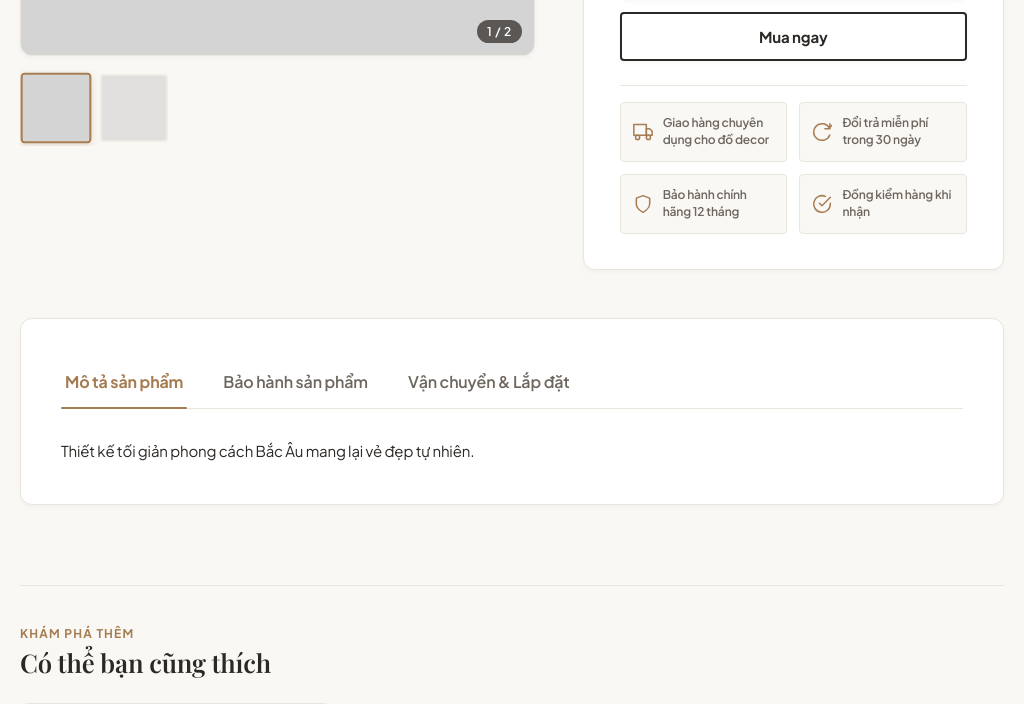
Test: ProductDetailView › renders tabs and switches active panel on tab click
(page scrolled)
Click warranty tab
Click the tab "Bảo hành sản phẩm" at (296, 384), box [219,359,372,408]
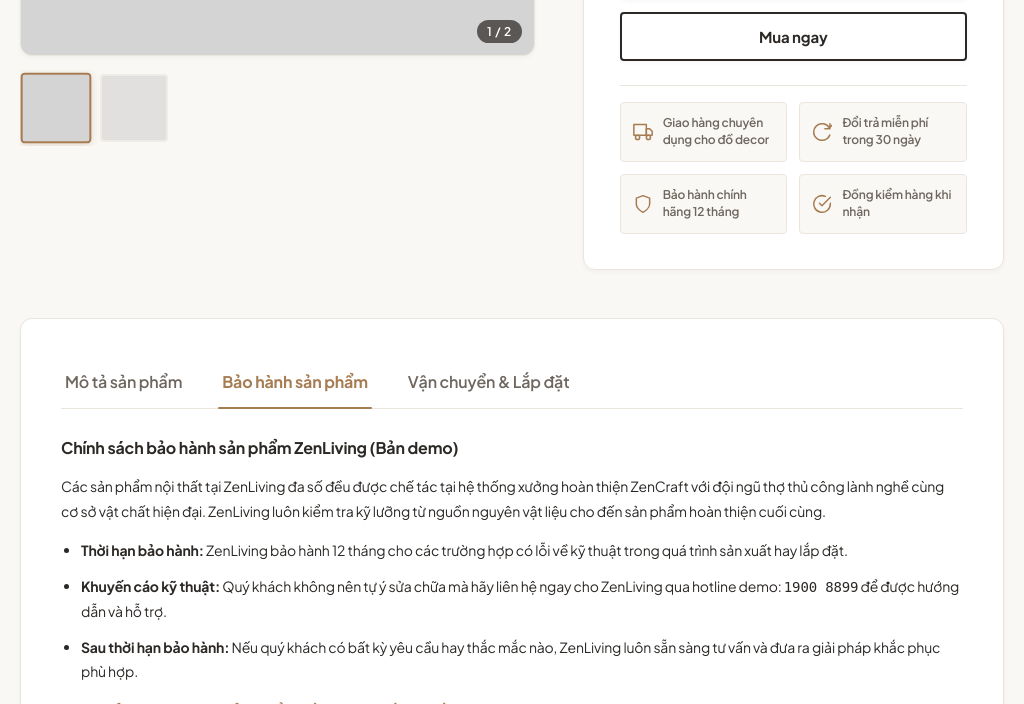
expect the heading "Chính sách bảo hành sản phẩm ZenLiving (Bản demo)" is shown: met, box [61,437,458,458]
expect the list item "ZenLiving bảo hành 12 tháng" is shown: met, box [204,541,848,559]
Click shipping tab
Click the tab "Vận chuyển & Lắp đặt" at (489, 384), box [404,359,574,408]
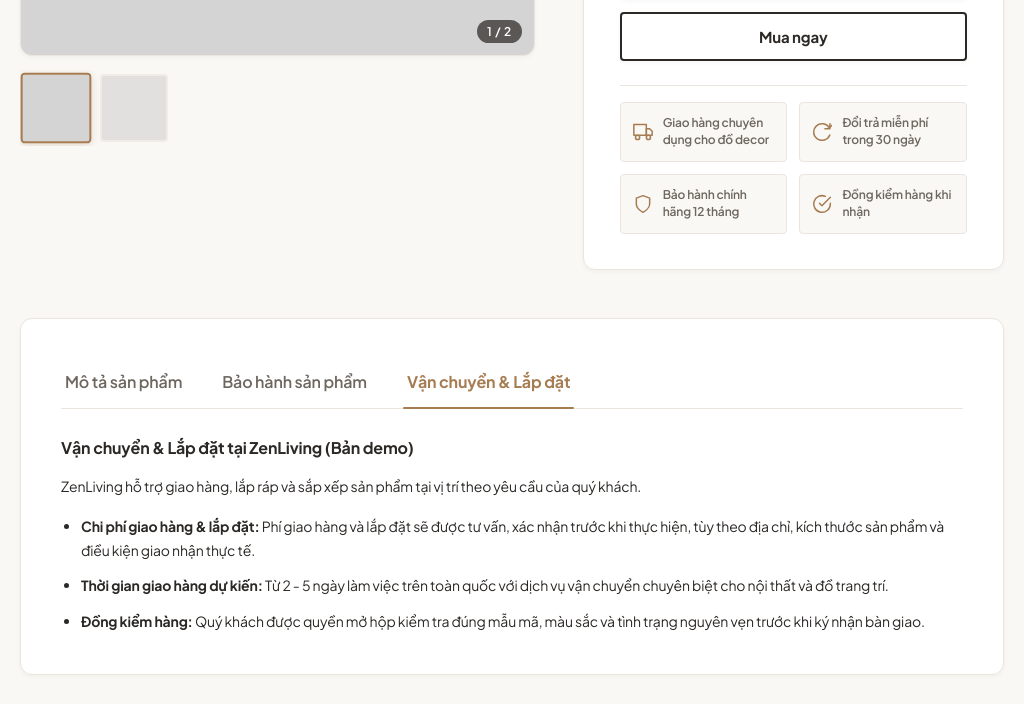
expect the heading "Vận chuyển & Lắp đặt tại ZenLiving (Bản demo)" is shown: met, box [61,437,414,458]
expect the text "ZenLiving hỗ trợ giao hàng, lắp ráp và sắp xếp" is shown: met, box [61,477,641,495]
